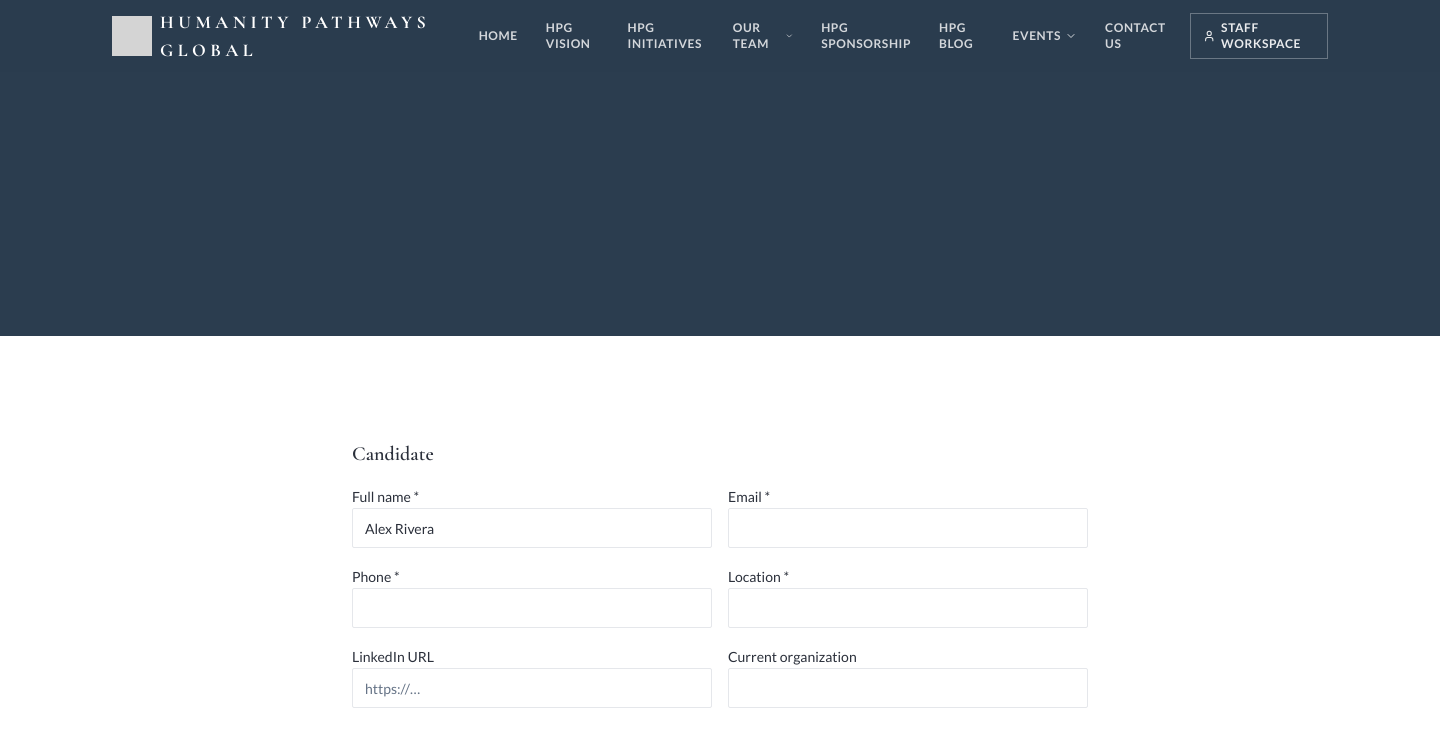
it: BoardApplication form › shows success only after both notification and acknowledgement are queued
Earlier steps of the test are not shown.
Type "alex@example.com" into the field labelled "Email *". click: (908, 528)
box: [728,508,1088,548]
Type "555-0100" into the field labelled "Phone *". click: (532, 608)
box: [352,588,712,628]
Type "Chicago, IL" into the field labelled "Location *". click: (908, 608)
box: [728,588,1088,628]
(page scrolled)
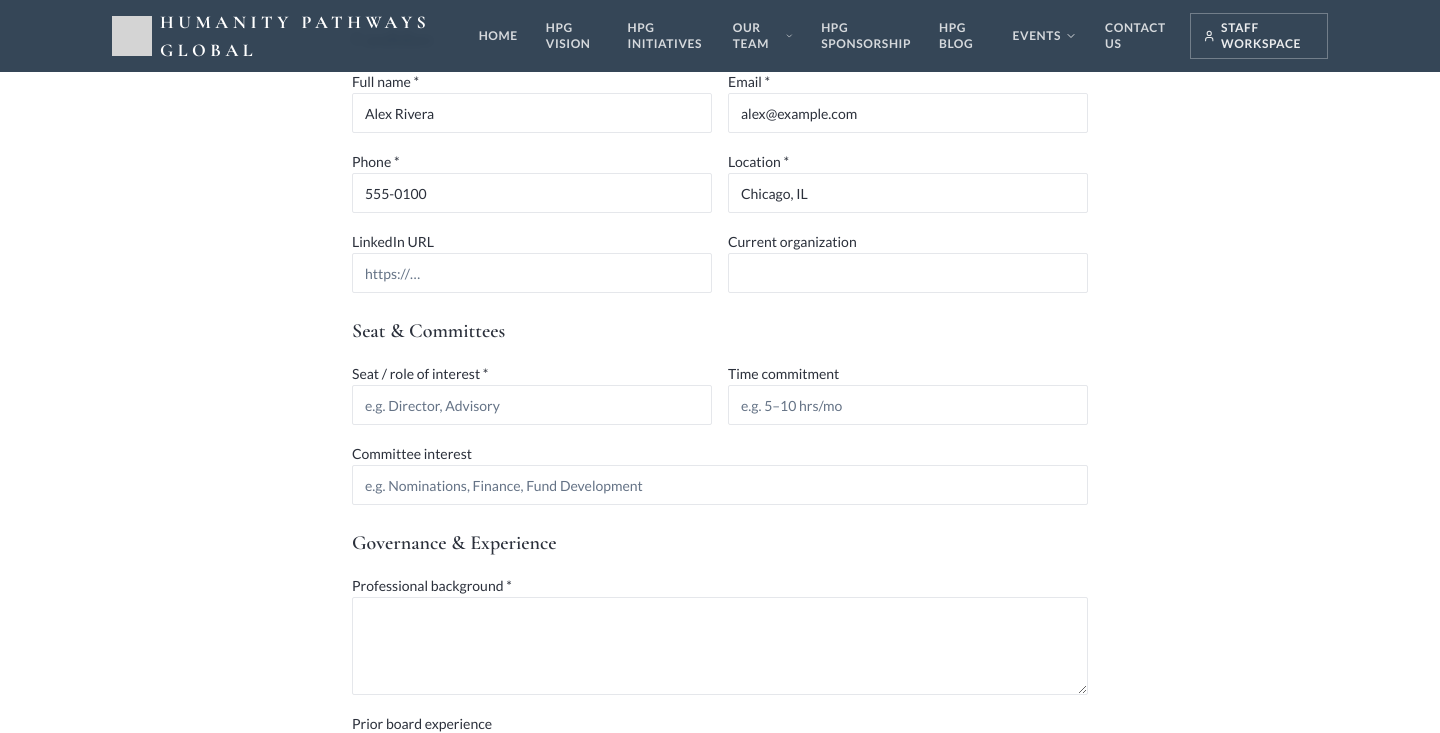
Type "Director" into the field labelled "Seat / role of interest *". click: (532, 405)
box: [352,385,712,425]
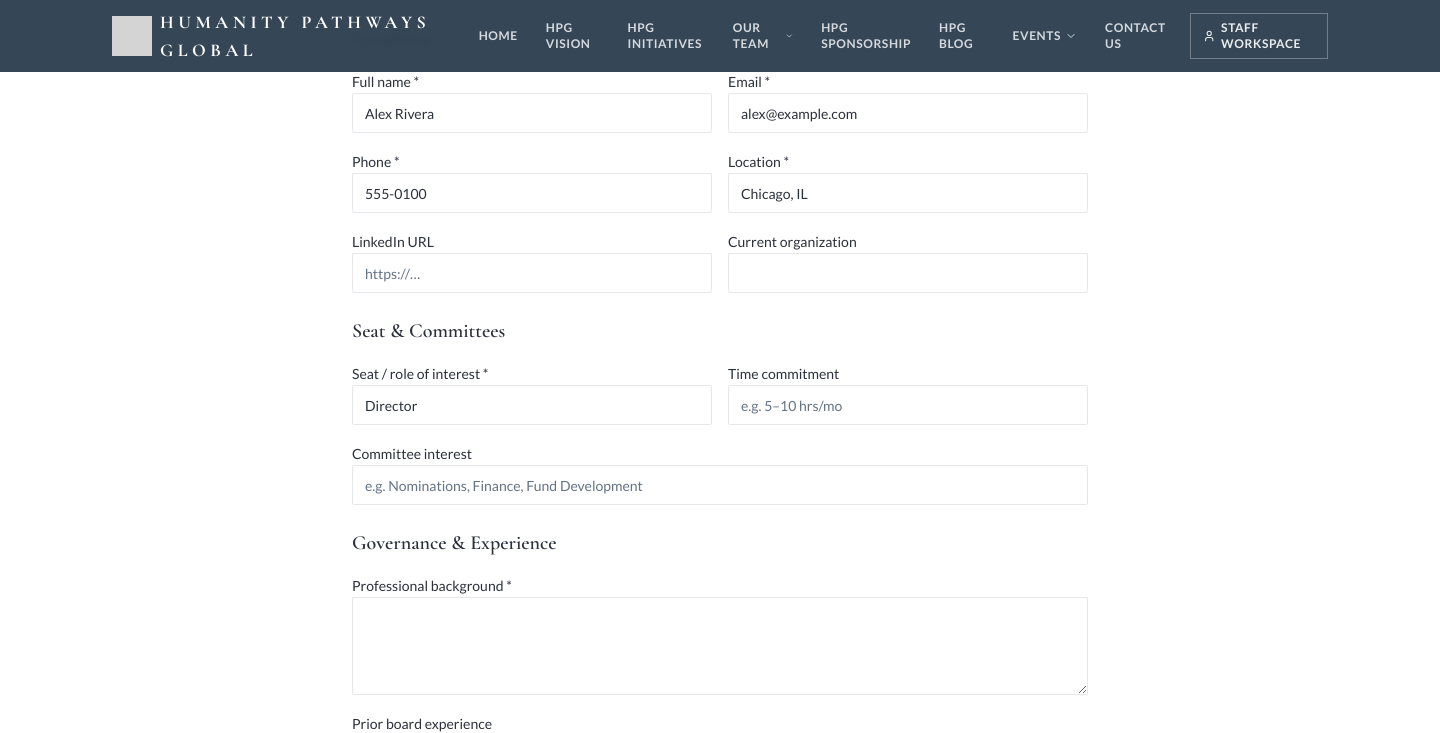
Type "Twenty plus years in nonprofit governance and finance." into the text box labelled "Professional background *". click: (720, 646)
box: [352,597,1088,695]
(page scrolled)
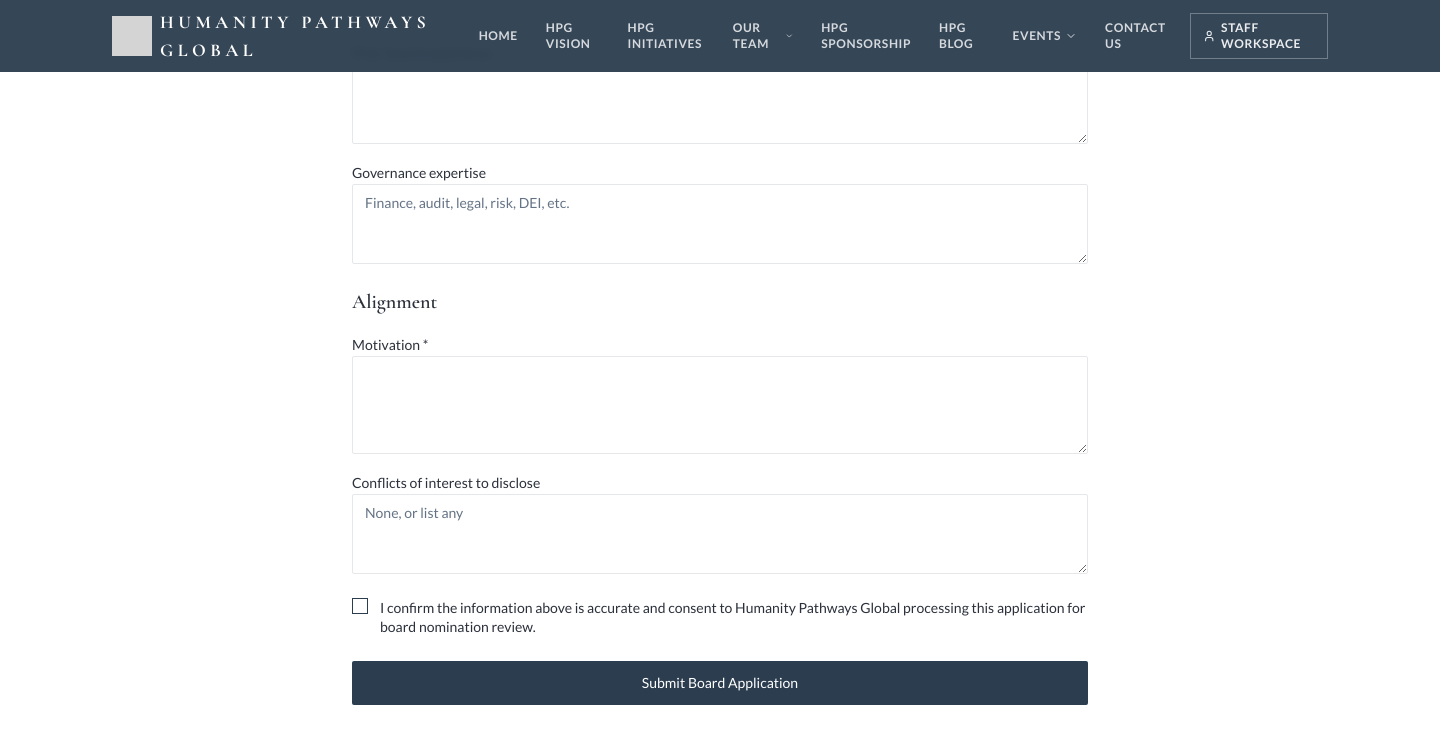
Type "Committed to advancing HPG's global mission and governance." into the text box labelled "Motivation *". click: (720, 405)
box: [352,356,1088,454]
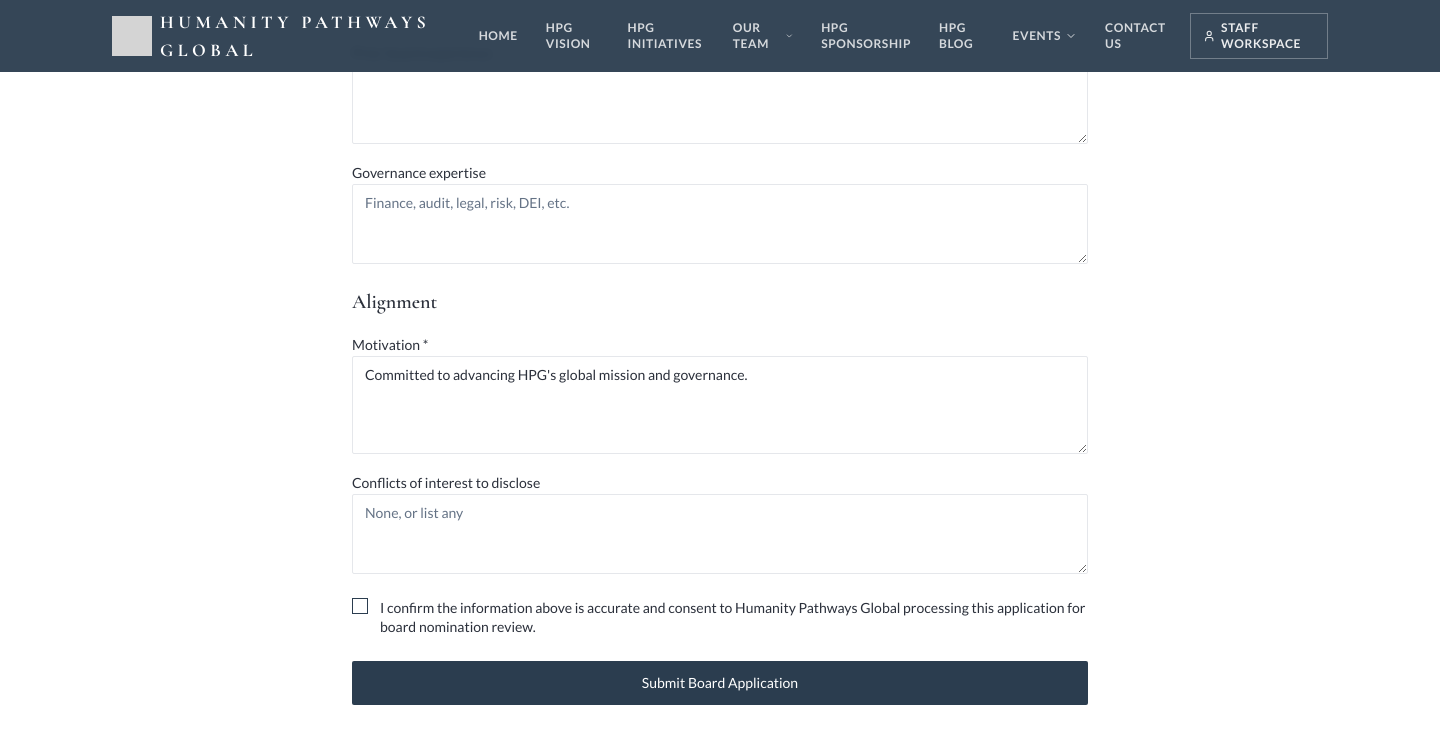
Click the checkbox named "I confirm". click: (360, 606)
box: [352,598,368,614]
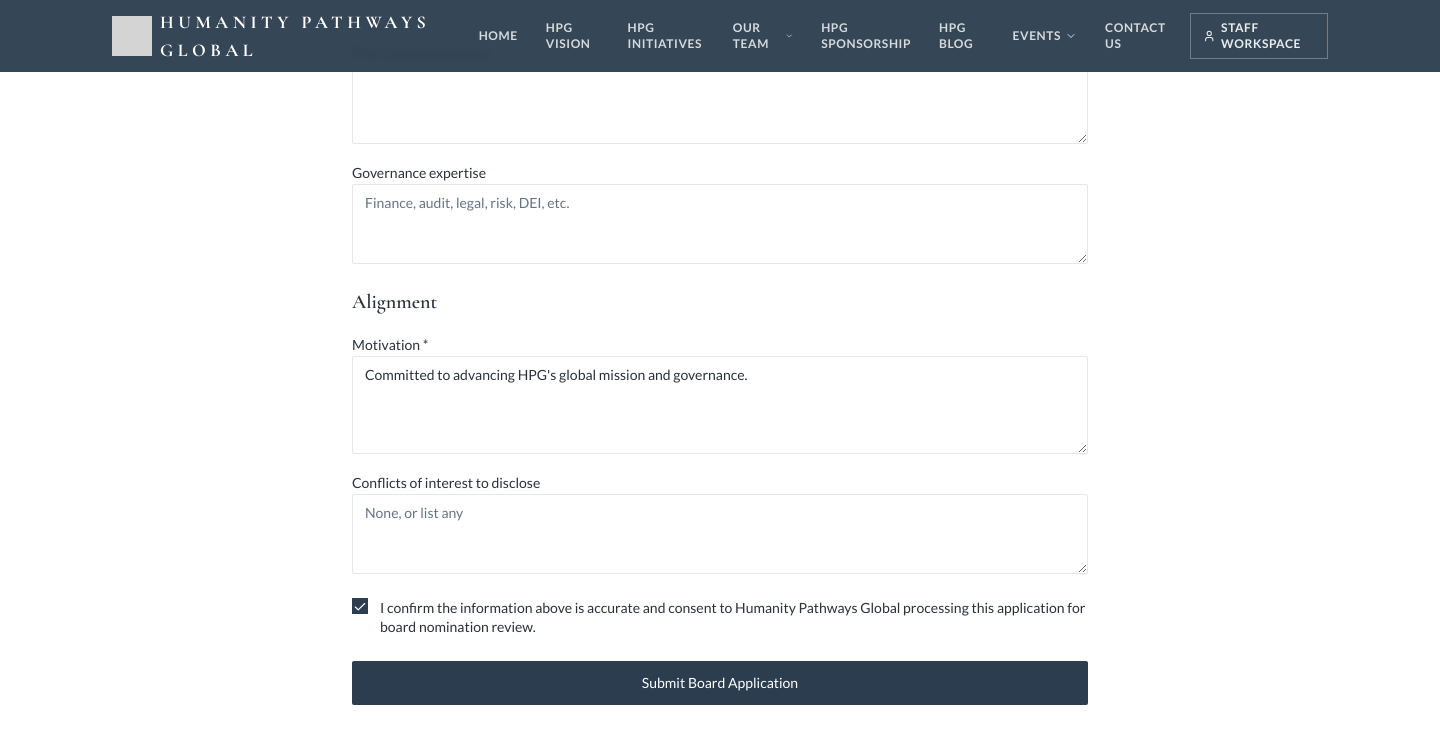
Click the button "Submit Board Application". click: (720, 682)
box: [352,660,1088,704]
(page scrolled)
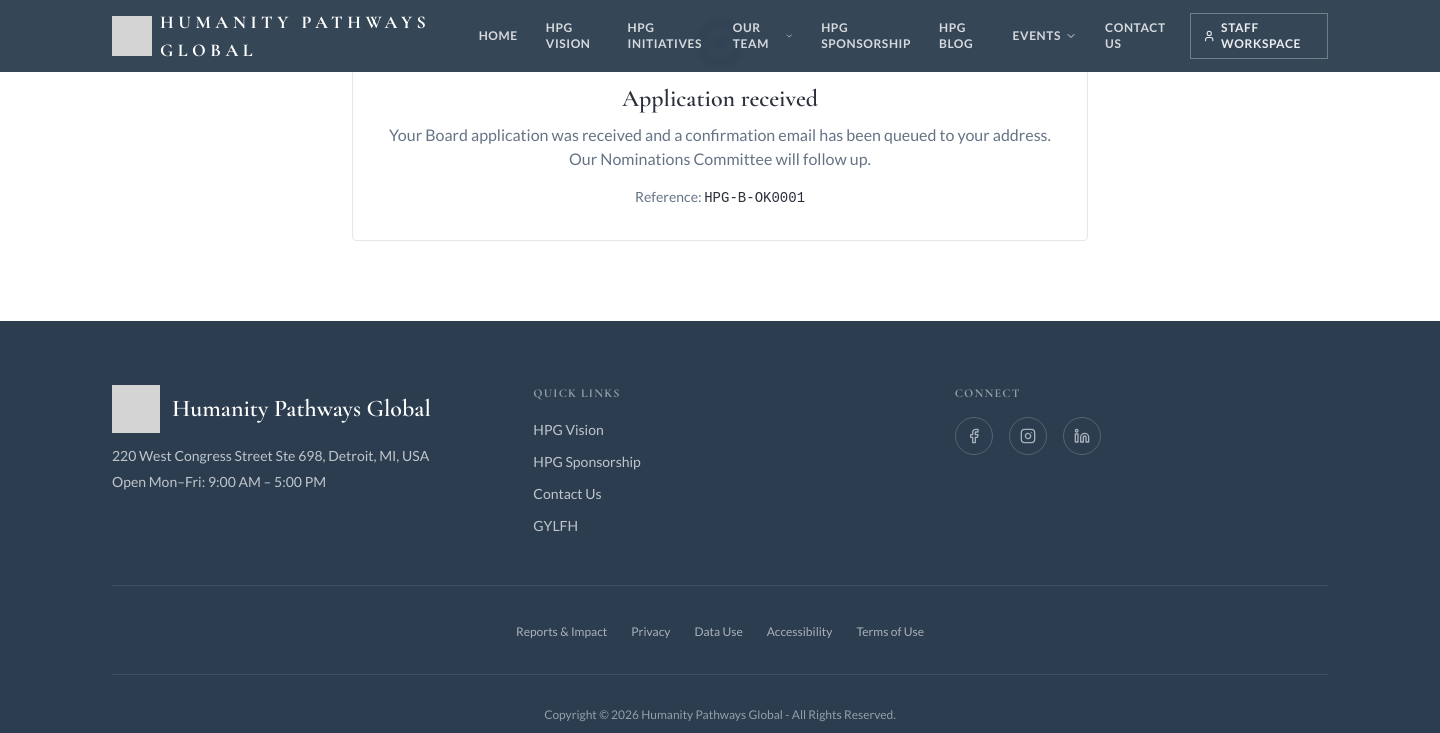
Now the heading "Application received" is shown, box [622,84,818,113]
Now the text "HPG-B-OK0001" is shown, box [704,190,805,206]
